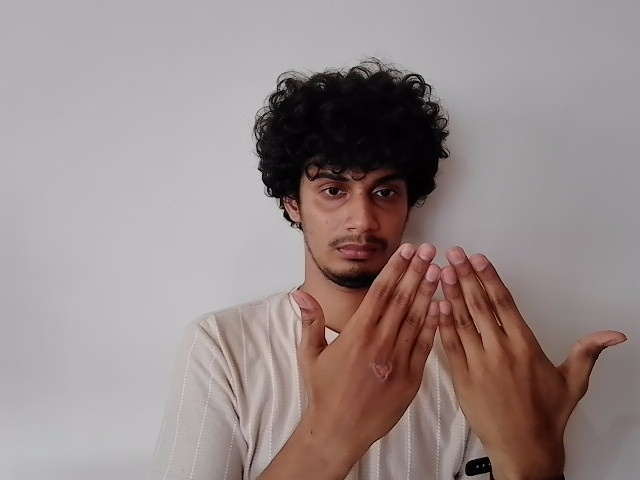thankyou: (283, 238, 639, 443)
